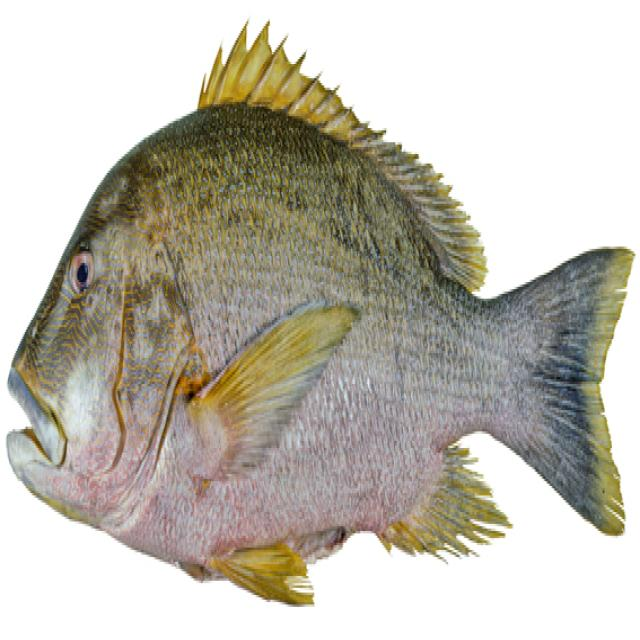ikan: (6, 17, 634, 609)
